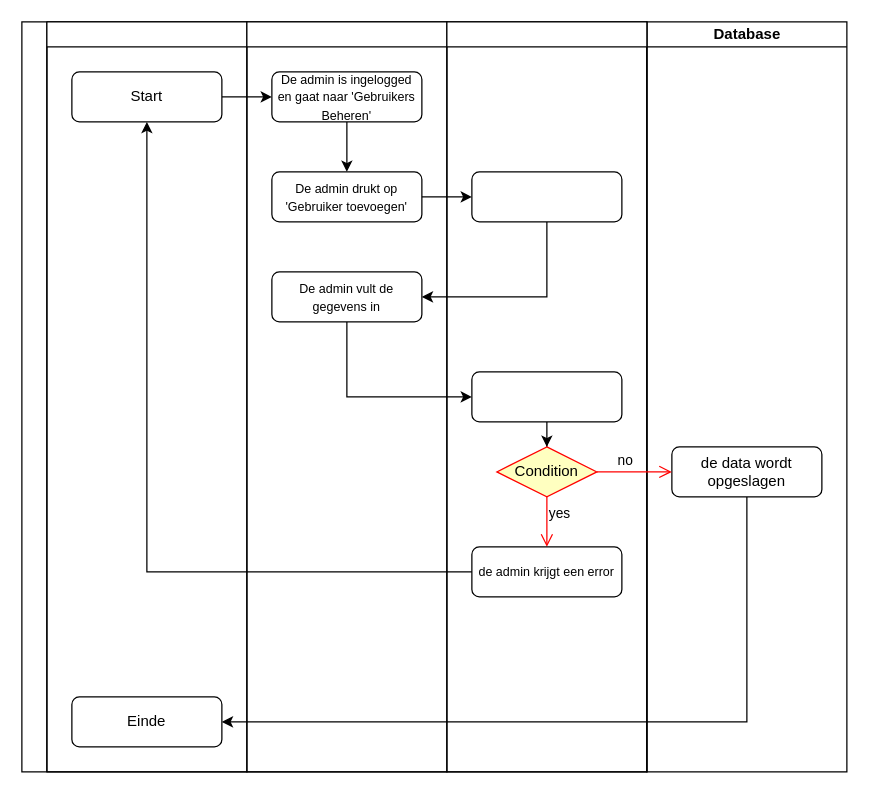
The diagram is 869 pixels wide and 794 high, and some of its shapes have lost their labels. Here are the shapes that lost their labels. From the top down, the box of each, then its label:
(471, 171, 622, 222): Er komt een modal met een form erin tevoorschijn
(246, 21, 447, 772): Action
(471, 371, 622, 422): Er wordt gecheckt of er al een gebruiker bestaat met die email
(446, 21, 647, 772): Systeem
